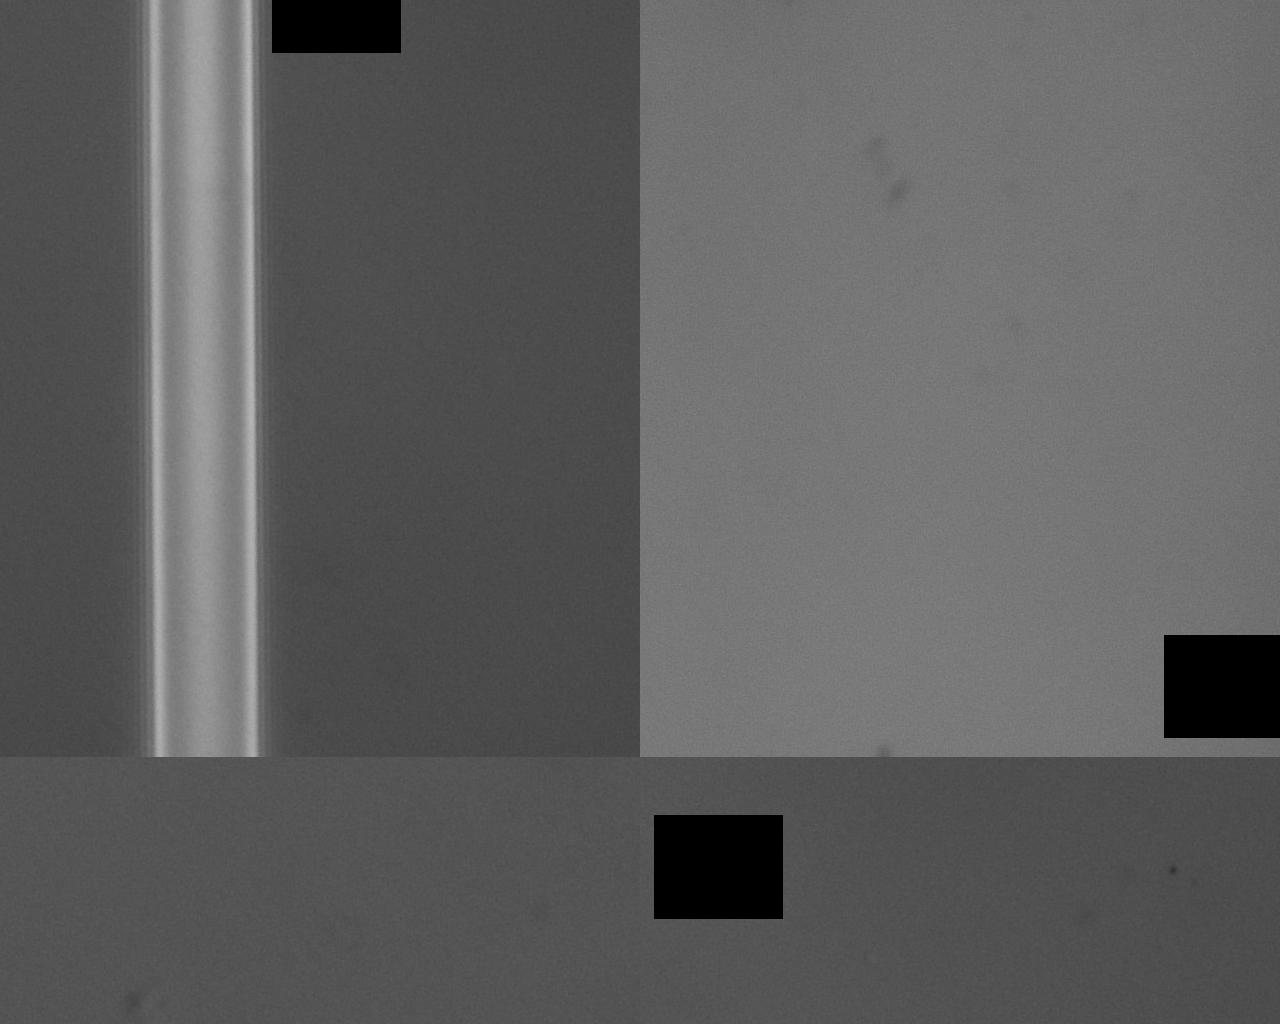fiber: (0, 65, 1280, 985)
